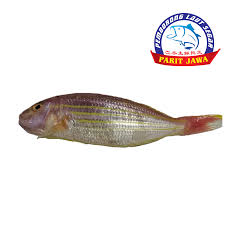Ikan Kerisi: (16, 86, 225, 157)
